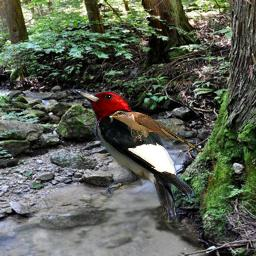Cuckoo: (107, 110, 203, 153)
Woodpecker: (71, 89, 197, 227)
